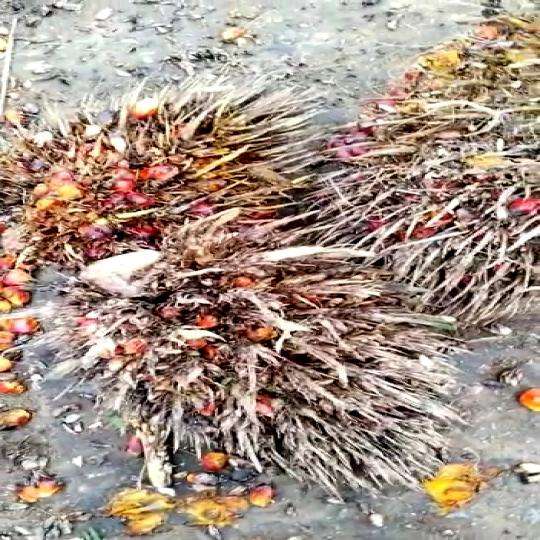terlalu masak: (43, 221, 432, 497), (0, 94, 321, 268)
